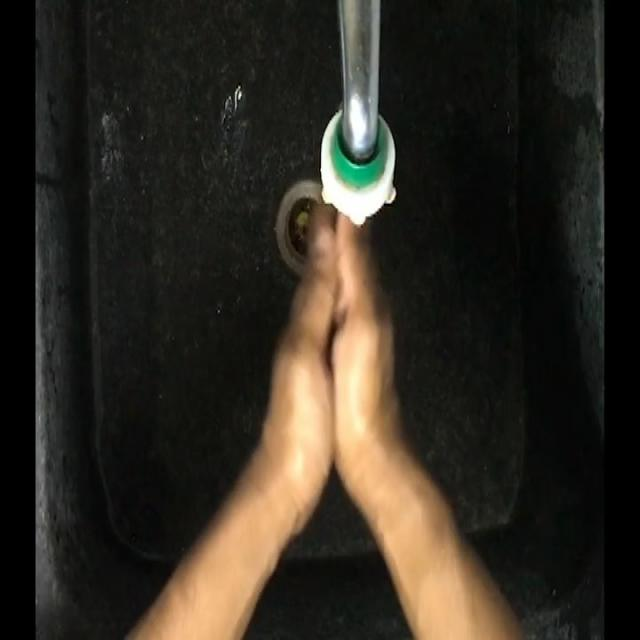step_1: (257, 128, 407, 492)
